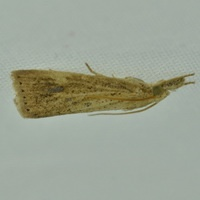insect: (11, 63, 193, 117)
